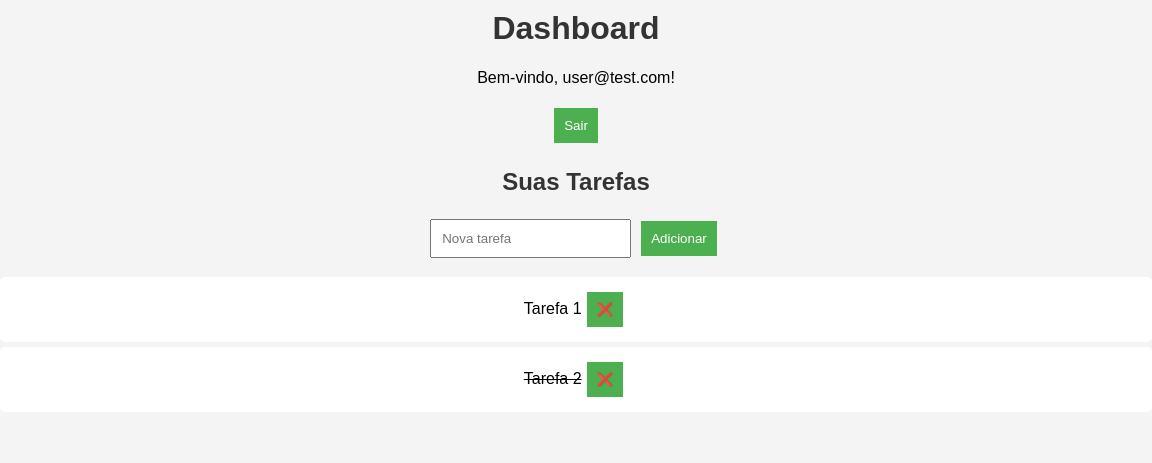
Scenario: Dashboard Component › deve deletar tarefa ao clicar no botão de exclusão
The image size is (1152, 463).
Click the button "❌" next to "Tarefa 1" at (605, 309), box x1=587 y1=292 x2=623 y2=327
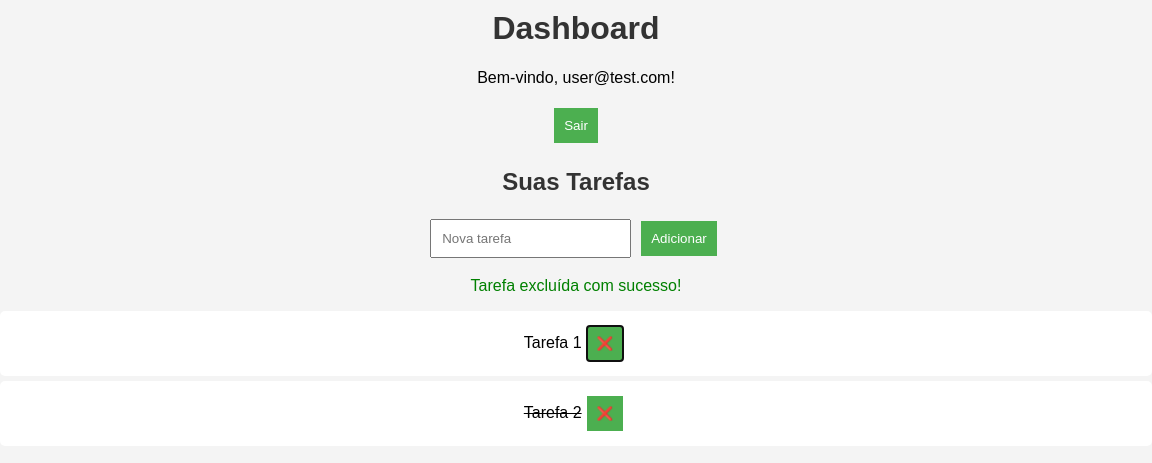
Expected: the text "Tarefa excluída com sucesso!" is shown, x1=471 y1=277 x2=681 y2=294
